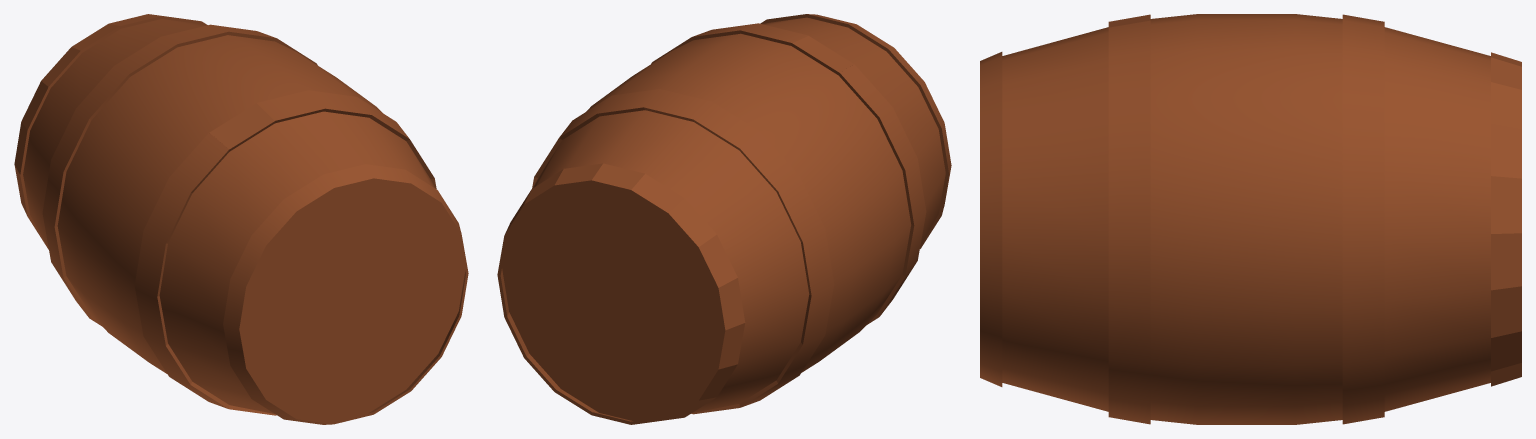
The model's file is mutong.FBX.
3 renders of one model, left to right at view 1: azimuth 30°, elevation 25°; view 2: azimuth 150°, elevation 25°; view 3: azimuth 270°, elevation 25°, orthographic. The views are drawn at different scales.
Visible parts, largest first — view 1: c106; view 2: c106; view 3: c106.
Part boxes in pixels (box(x1,y1,x2,y2)): c106: box(14, 14, 468, 424); c106: box(497, 14, 951, 424); c106: box(980, 14, 1521, 424).
Size of the model in its own units: 0.3889 by 0.383 by 0.5108.
